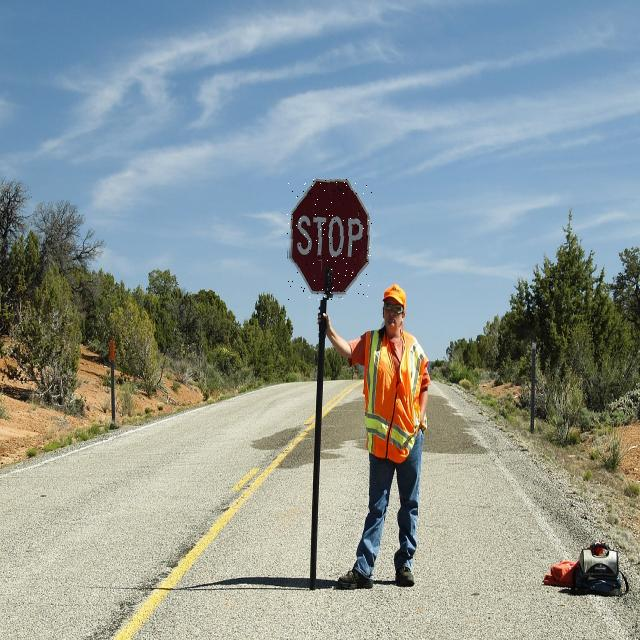stop: (286, 178, 372, 300)
